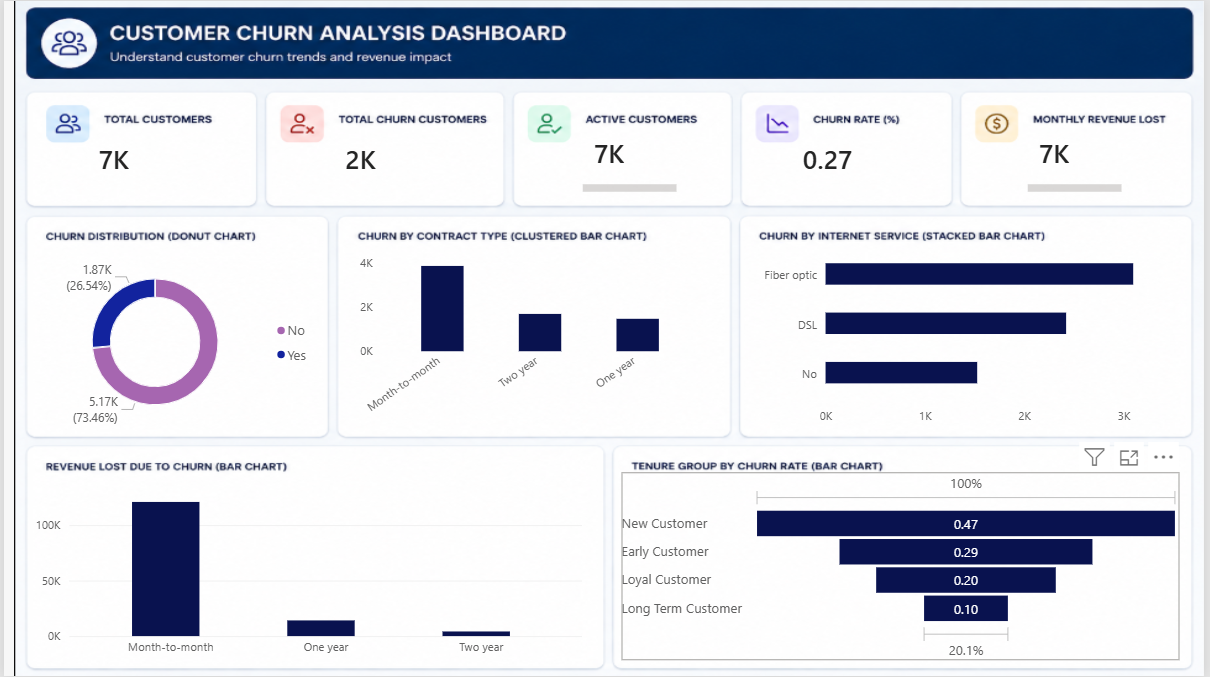

Layout of this report page (visuals, bound fields, positions):
{"tool":"powerbi","page":{"name":"Page 1","canvas":[1280,720],"ordinal":0},"visuals":[{"type":"image","box":[10.7,0,1269,720.8],"z":0},{"type":"cardVisual","fields":{"Data":["WA_Fn-UseC_-Telco-Customer-Churn.Total Customers"]},"box":[89,126.6,187.9,79.1],"z":1},{"type":"cardVisual","fields":{"Data":["WA_Fn-UseC_-Telco-Customer-Churn.Total Customers","WA_Fn-UseC_-Telco-Customer-Churn.Active Customers"]},"box":[617.1,126.6,187.9,79.1],"z":2},{"type":"cardVisual","fields":{"Data":["WA_Fn-UseC_-Telco-Customer-Churn.Churn Rate"]},"box":[840.6,126.6,187.9,79.1],"z":3},{"type":"cardVisual","fields":{"Data":["WA_Fn-UseC_-Telco-Customer-Churn.Total Customers","WA_Fn-UseC_-Telco-Customer-Churn.Monthly Revenue Lost"]},"box":[1091.7,126.6,187.9,79.1],"z":4},{"type":"cardVisual","fields":{"Data":["WA_Fn-UseC_-Telco-Customer-Churn.Total Churn Customers"]},"box":[352,126.6,187.9,79.1],"z":5},{"type":"donutChart","fields":{"Category":["WA_Fn-UseC_-Telco-Customer-Churn.Churn"],"Y":["CountNonNull(WA_Fn-UseC_-Telco-Customer-Churn.customerID)"]},"box":[33.6,271,298.6,185.9],"z":6},{"type":"clusteredColumnChart","fields":{"Category":["WA_Fn-UseC_-Telco-Customer-Churn.Contract"],"Y":["CountNonNull(WA_Fn-UseC_-Telco-Customer-Churn.Churn)"]},"box":[365.9,271,381.7,185.9],"z":7},{"type":"clusteredBarChart","fields":{"Category":["WA_Fn-UseC_-Telco-Customer-Churn.InternetService"],"Y":["CountNonNull(WA_Fn-UseC_-Telco-Customer-Churn.Churn)"]},"box":[805,251.2,449,205.7],"z":8},{"type":"columnChart","fields":{"Category":["WA_Fn-UseC_-Telco-Customer-Churn.Contract"],"Y":["WA_Fn-UseC_-Telco-Customer-Churn.Monthly Revenue Lost"]},"box":[33.6,502.4,583.4,199.8],"z":9},{"type":"funnel","fields":{"Category":["WA_Fn-UseC_-Telco-Customer-Churn.Tenure Group"],"Y":["WA_Fn-UseC_-Telco-Customer-Churn.Churn Rate"]},"box":[658.6,502.4,595.3,199.8],"z":10}]}

Visuals, with their boxes in screenshot pixels (x1, y1, x2, y2), scaled from the page's 1280x720 canvas onto the 1210x677 screenshot:
image: box=[10, 0, 1209, 676]
cardVisual - WA_Fn-UseC_-Telco-Customer-Churn.Total Customers: box=[84, 119, 262, 193]
cardVisual - WA_Fn-UseC_-Telco-Customer-Churn.Total Customers x WA_Fn-UseC_-Telco-Customer-Churn.Active Customers: box=[583, 119, 761, 193]
cardVisual - WA_Fn-UseC_-Telco-Customer-Churn.Churn Rate: box=[795, 119, 972, 193]
cardVisual - WA_Fn-UseC_-Telco-Customer-Churn.Total Customers x WA_Fn-UseC_-Telco-Customer-Churn.Monthly Revenue Lost: box=[1032, 119, 1209, 193]
cardVisual - WA_Fn-UseC_-Telco-Customer-Churn.Total Churn Customers: box=[333, 119, 510, 193]
donutChart - WA_Fn-UseC_-Telco-Customer-Churn.Churn x CountNonNull(WA_Fn-UseC_-Telco-Customer-Churn.customerID): box=[32, 255, 314, 430]
clusteredColumnChart - WA_Fn-UseC_-Telco-Customer-Churn.Contract x CountNonNull(WA_Fn-UseC_-Telco-Customer-Churn.Churn): box=[346, 255, 707, 430]
clusteredBarChart - WA_Fn-UseC_-Telco-Customer-Churn.InternetService x CountNonNull(WA_Fn-UseC_-Telco-Customer-Churn.Churn): box=[761, 236, 1185, 430]
columnChart - WA_Fn-UseC_-Telco-Customer-Churn.Contract x WA_Fn-UseC_-Telco-Customer-Churn.Monthly Revenue Lost: box=[32, 472, 583, 660]
funnel - WA_Fn-UseC_-Telco-Customer-Churn.Tenure Group x WA_Fn-UseC_-Telco-Customer-Churn.Churn Rate: box=[623, 472, 1185, 660]
